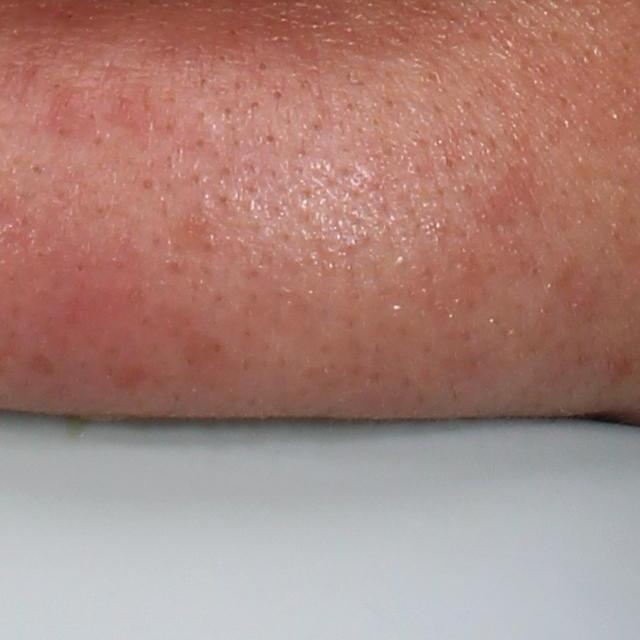comedo: (132, 172, 162, 194), (254, 57, 274, 75), (269, 86, 287, 103)
